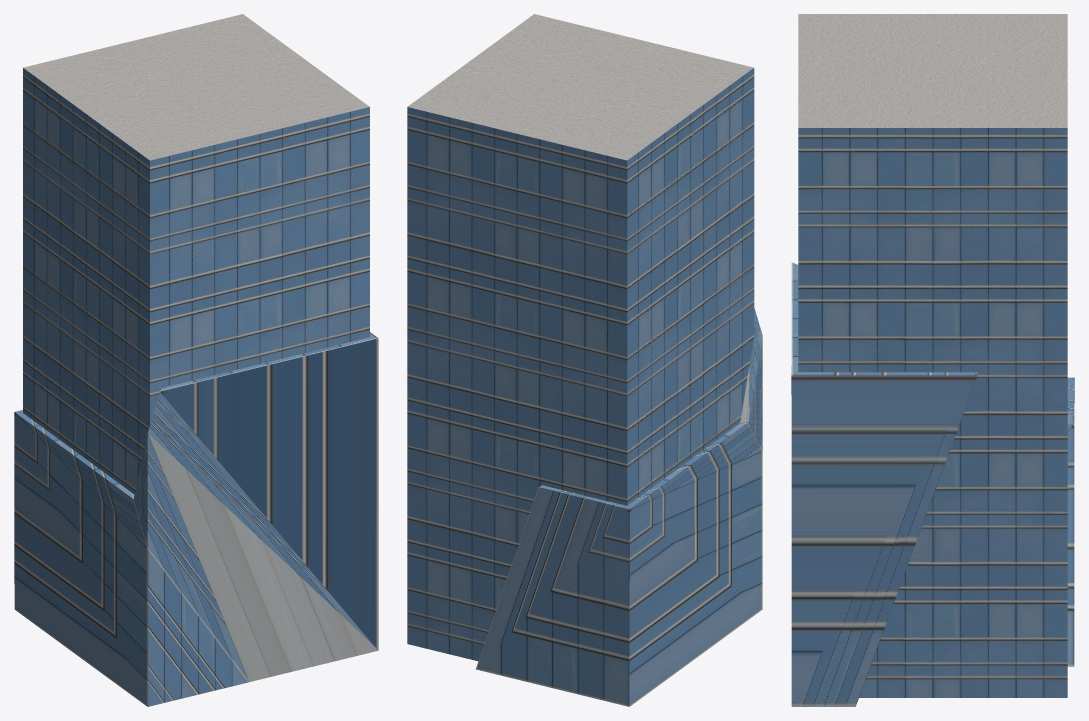
File: building18.gltf
3 views of the same model, side by side, from view 1: azimuth 30°, elevation 25°; view 2: azimuth 150°, elevation 25°; view 3: azimuth 270°, elevation 25° (orthographic). The views are drawn at different scales.
Visible parts, largest first — view 1: building18, building18_cell.005, building18_cell, building18_cell.001, building18_cell.002, building18_cell.003; view 2: building18, building18_cell, building18_cell.002, building18_cell.004, building18_cell.003, building18_cell.001, building18_cell.005; view 3: building18, building18_cell.004, building18_cell.005, building18_cell.001, building18_cell, building18_cell.003.
Boxes of the visible parts, box(x1,y1,x2,y2) form: building18: box(23, 14, 369, 494); building18_cell.005: box(133, 332, 378, 681); building18_cell: box(14, 410, 248, 706); building18_cell.001: box(136, 35, 369, 385); building18_cell.002: box(23, 195, 161, 493); building18_cell.003: box(23, 68, 183, 264); building18: box(407, 55, 754, 661); building18_cell: box(476, 422, 762, 706); building18_cell.002: box(420, 193, 754, 504); building18_cell.004: box(407, 260, 524, 653); building18_cell.003: box(408, 68, 754, 272); building18_cell.001: box(407, 14, 754, 262); building18_cell.005: box(740, 308, 762, 449); building18: box(798, 14, 1067, 697); building18_cell.004: box(859, 292, 1067, 697); building18_cell.005: box(791, 262, 977, 706); building18_cell.001: box(798, 39, 1067, 372); building18_cell: box(1067, 377, 1074, 666); building18_cell.003: box(1009, 128, 1067, 206).
Size of the model in its own units: 2.13 by 4.78 by 2.13.
Materials: 2 (2 with a texture image).
